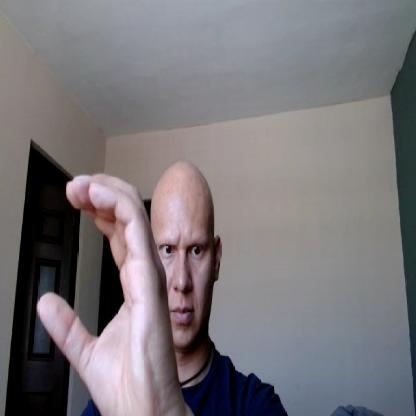C: (36, 171, 178, 415)
